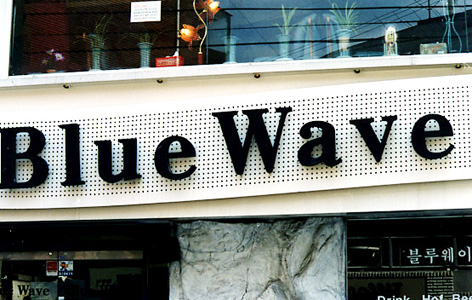sign_readable: (3, 110, 466, 190)
